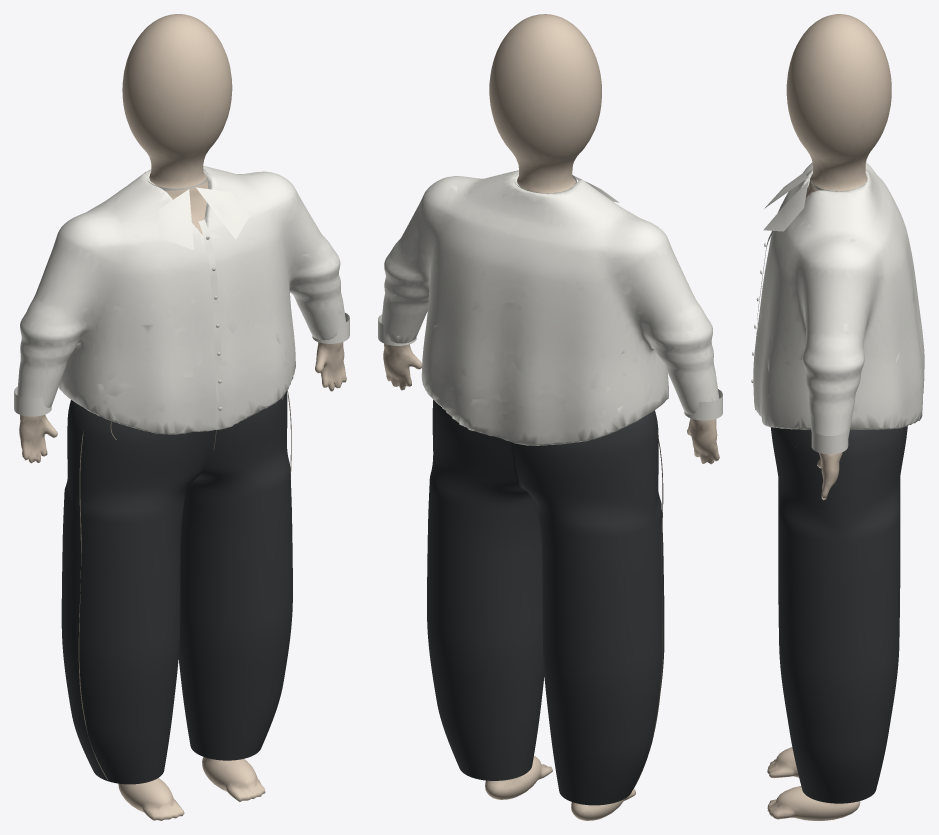
Rendered from modelled-outfit.glb.
3 renders of one model, left to right at view 1: azimuth 30°, elevation 25°; view 2: azimuth 150°, elevation 25°; view 3: azimuth 270°, elevation 25°, orthographic. The views are drawn at different scales.
Visible parts, largest first — view 1: sewn-barrel-panels, tailored-shirt-body, sculpted-body, folded-collar--1, folded-collar-1, button-placket, button-cuff--1; view 2: sewn-barrel-panels, tailored-shirt-body, sculpted-body; view 3: sewn-barrel-panels, tailored-shirt-body, sculpted-body, folded-collar-1, button-cuff-1.
Part boxes in pixels (x1,y1,x2,y2): sewn-barrel-panels: (61,391,292,784); tailored-shirt-body: (17,166,345,434); sculpted-body: (19,14,346,820); folded-collar--1: (158,189,193,249); folded-collar-1: (196,187,249,239); button-placket: (198,220,221,421); button-cuff--1: (14,387,51,416); sewn-barrel-panels: (427,400,664,805); tailored-shirt-body: (381,170,719,445); sculpted-body: (383,14,719,820); sewn-barrel-panels: (771,426,907,803); tailored-shirt-body: (753,162,924,439); sculpted-body: (767,14,891,820); folded-collar-1: (763,181,808,231); button-cuff-1: (811,429,848,454).
Size of the model in its own units: 0.822 by 1.83 by 0.3688.
